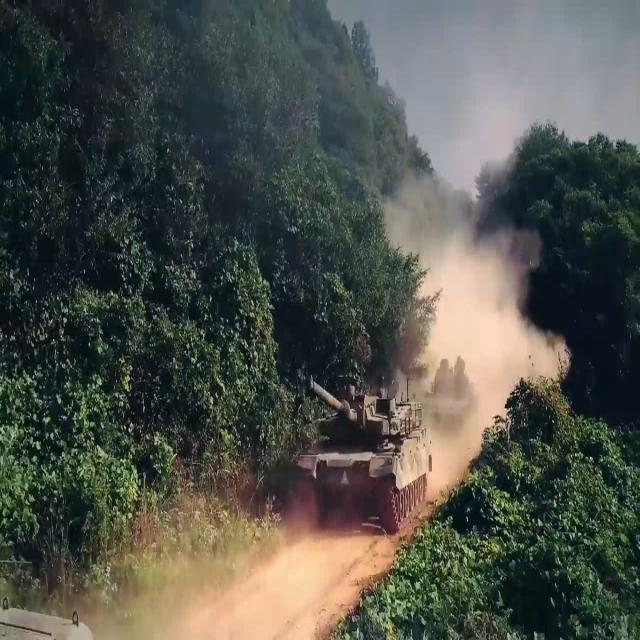korea tank: (296, 370, 434, 536)
